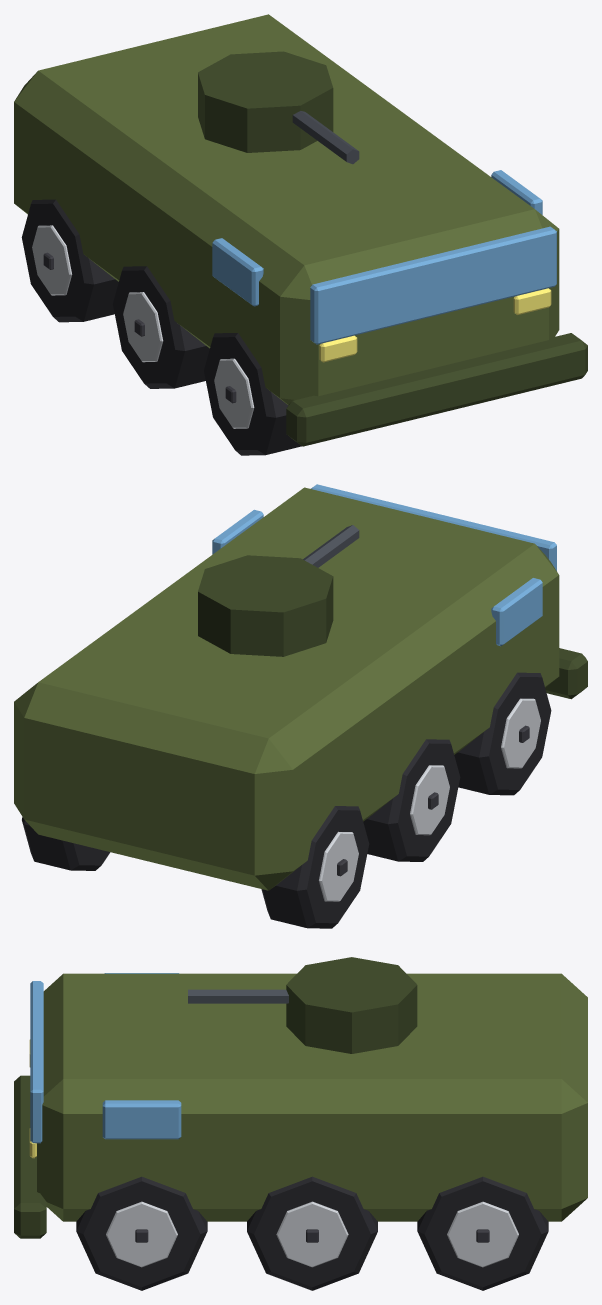
Rendered from ArmoredCar.fbx.
The picture shows the model from 3 angles, top to bottom: view 1: azimuth 30°, elevation 25°; view 2: azimuth 150°, elevation 25°; view 3: azimuth 270°, elevation 25°; orthographic projection. The views are drawn at different scales.
Parts seen in each view (by area): view 1: ArmoredCar, ArmoredCar_Turret, ArmoredCar_WheelBR, ArmoredCar_WheelMR, ArmoredCar_WheelFR; view 2: ArmoredCar, ArmoredCar_Turret, ArmoredCar_WheelBR, ArmoredCar_WheelMR, ArmoredCar_WheelFR, ArmoredCar_WheelBL; view 3: ArmoredCar, ArmoredCar_Turret, ArmoredCar_WheelBL, ArmoredCar_WheelFL, ArmoredCar_WheelML.
Boxes of the visible parts, x1,y1,x2,y2 form: ArmoredCar: [14, 14, 587, 446]; ArmoredCar_Turret: [198, 51, 359, 164]; ArmoredCar_WheelBR: [21, 199, 118, 322]; ArmoredCar_WheelMR: [113, 266, 209, 388]; ArmoredCar_WheelFR: [204, 333, 301, 455]; ArmoredCar: [14, 484, 587, 890]; ArmoredCar_Turret: [198, 525, 359, 656]; ArmoredCar_WheelBR: [261, 806, 369, 928]; ArmoredCar_WheelMR: [363, 739, 460, 861]; ArmoredCar_WheelFR: [454, 672, 551, 795]; ArmoredCar_WheelBL: [22, 817, 110, 870]; ArmoredCar: [14, 973, 587, 1238]; ArmoredCar_Turret: [188, 957, 417, 1053]; ArmoredCar_WheelBL: [417, 1176, 548, 1290]; ArmoredCar_WheelFL: [76, 1176, 207, 1290]; ArmoredCar_WheelML: [247, 1176, 377, 1290].
Bounding box in the file's own units: 4.92 × 4.1 × 8.75.
1 material, 1 textured.
